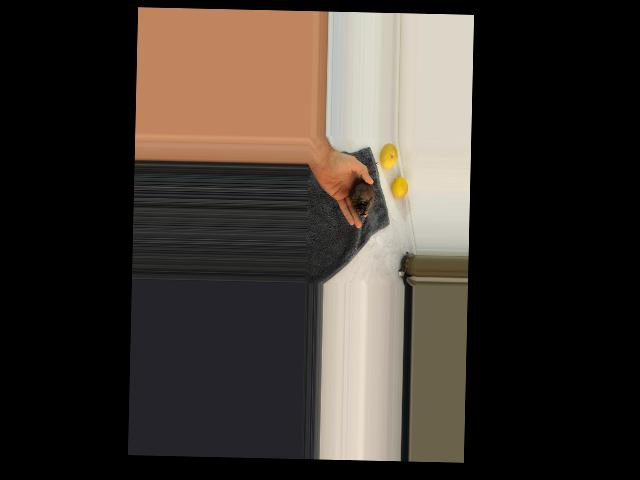beet: (349, 161, 378, 215)
